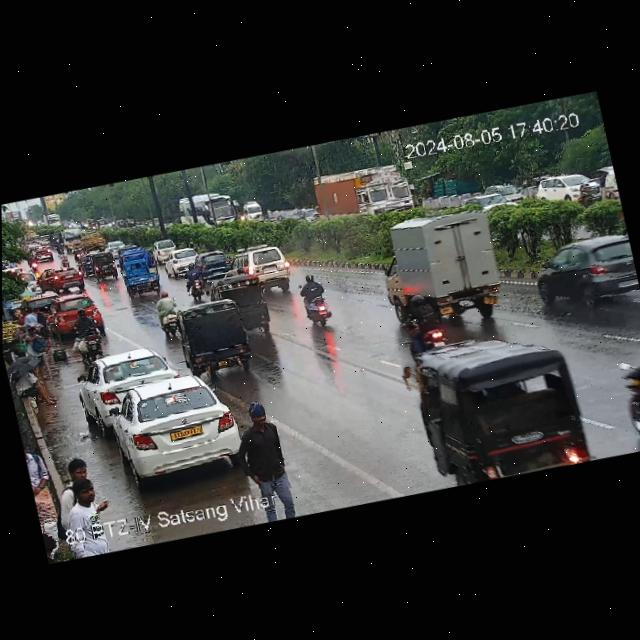bus: (175, 186, 237, 234), (241, 198, 265, 222)
car: (410, 320, 589, 484), (99, 367, 245, 487), (530, 228, 640, 318), (73, 340, 184, 421), (170, 291, 259, 381), (206, 267, 277, 340), (232, 241, 299, 302), (533, 166, 601, 211), (460, 188, 516, 223), (118, 255, 162, 298), (39, 263, 86, 294), (192, 248, 236, 280), (87, 247, 122, 283), (162, 246, 200, 278), (490, 177, 525, 206), (151, 234, 177, 259), (26, 242, 52, 262), (104, 238, 124, 254), (114, 217, 126, 227), (125, 217, 135, 226), (146, 219, 153, 227)
motorcycle: (396, 288, 448, 357), (614, 323, 640, 450), (295, 268, 343, 330), (70, 306, 105, 360), (151, 290, 181, 333), (182, 261, 206, 301), (574, 176, 600, 205), (56, 249, 73, 266)
person: (236, 397, 308, 514), (22, 438, 67, 558), (66, 469, 111, 519), (50, 446, 101, 490), (12, 365, 57, 411), (24, 325, 50, 381), (34, 303, 53, 347), (23, 304, 38, 324), (12, 308, 26, 327)
truck: (368, 200, 514, 336), (309, 158, 423, 232), (121, 245, 157, 276), (61, 227, 86, 256), (79, 226, 106, 252)
